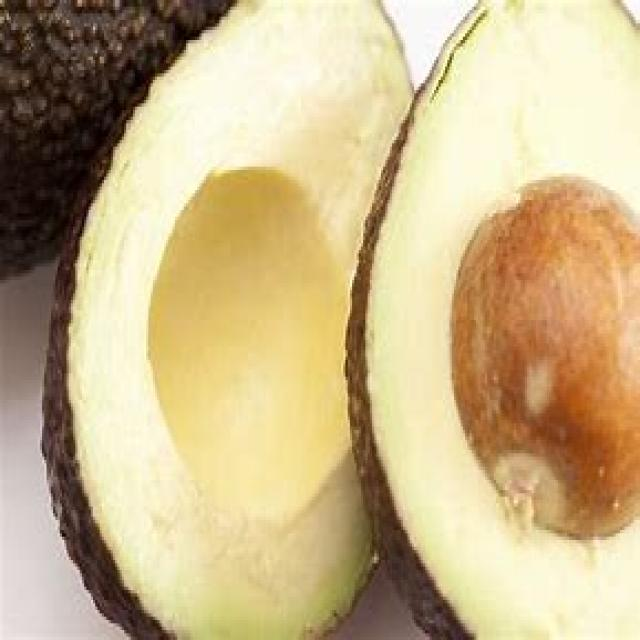Avocado: (37, 0, 376, 640), (359, 0, 640, 640)
